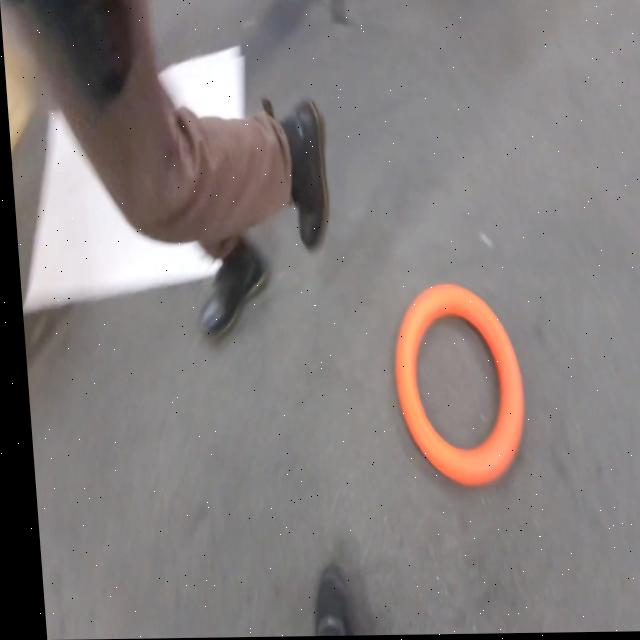note: (383, 290, 522, 491)
